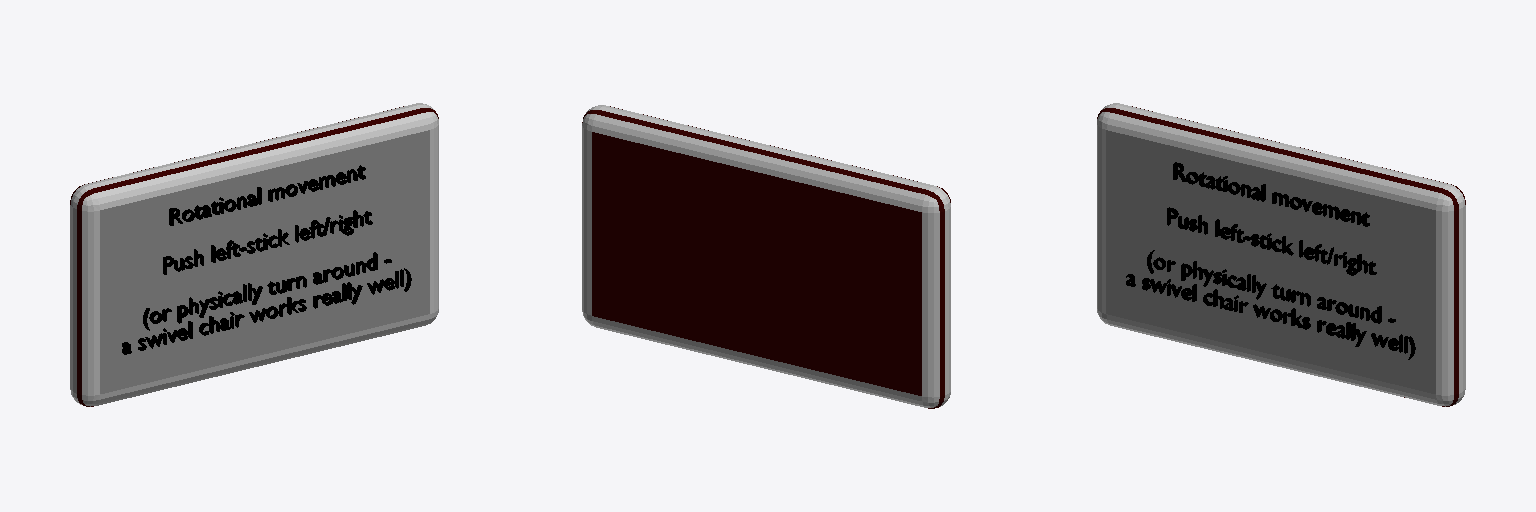
File: box_rotational.obj
The picture shows the model from 3 angles: view 1: azimuth 30°, elevation 25°; view 2: azimuth 150°, elevation 25°; view 3: azimuth 330°, elevation 25°; orthographic projection.
Parts seen in each view (by area): view 1: box_rotational; view 2: box_rotational; view 3: box_rotational.
Boxes of the visible parts, x1=… form: box_rotational: x1=70, y1=103, x2=438, y2=406; box_rotational: x1=582, y1=105, x2=950, y2=408; box_rotational: x1=1097, y1=103, x2=1465, y2=406.
Size of the model in its own units: 0.5 by 0.2887 by 0.0531.